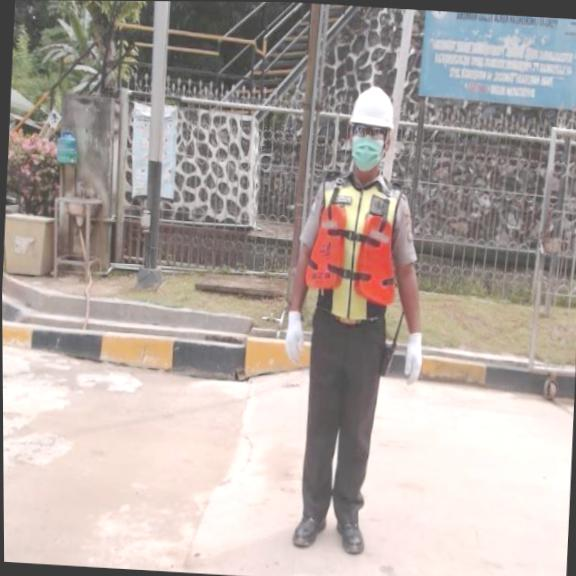safety_vest: (302, 200, 400, 306)
